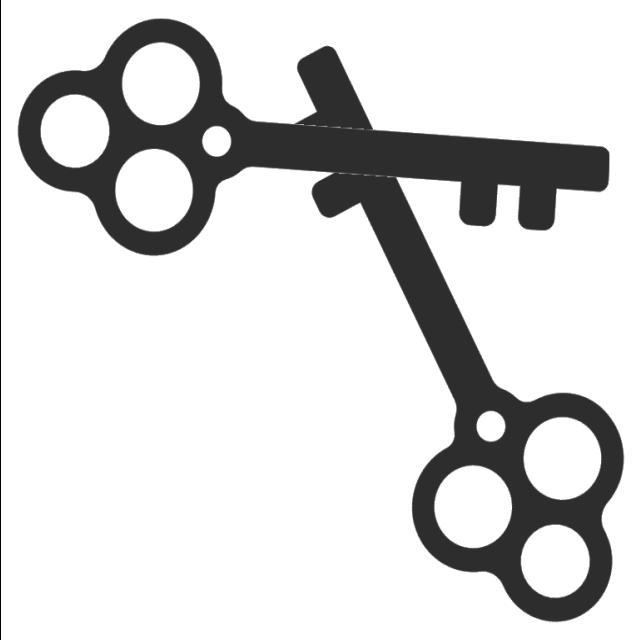key: (247, 25, 634, 632), (8, 6, 624, 272)
